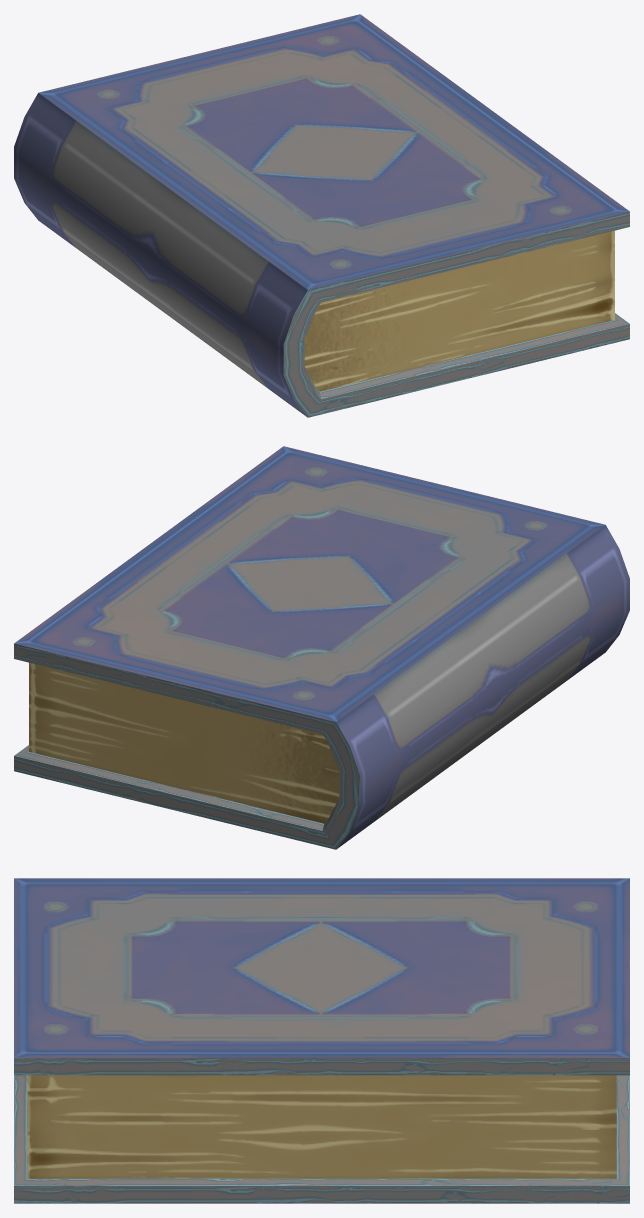
Rendered from Book_1.fbx.
The picture shows the model from 3 angles, top to bottom: view 1: azimuth 30°, elevation 25°; view 2: azimuth 150°, elevation 25°; view 3: azimuth 270°, elevation 25°; orthographic projection. The views are drawn at different scales.
Visible parts, largest first — view 1: Book_1; view 2: Book_1; view 3: Book_1.
Boxes of the visible parts, <box> form: Book_1: <box>14,14,629,417</box>; Book_1: <box>14,446,629,849</box>; Book_1: <box>14,878,629,1203</box>.
Size of the model in its own units: 26.46 by 9.32 by 35.68.
